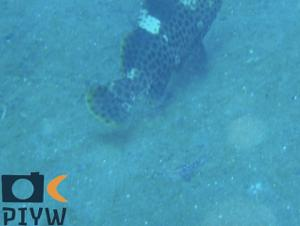Serranidae -Groupers-: (84, 0, 225, 134)
